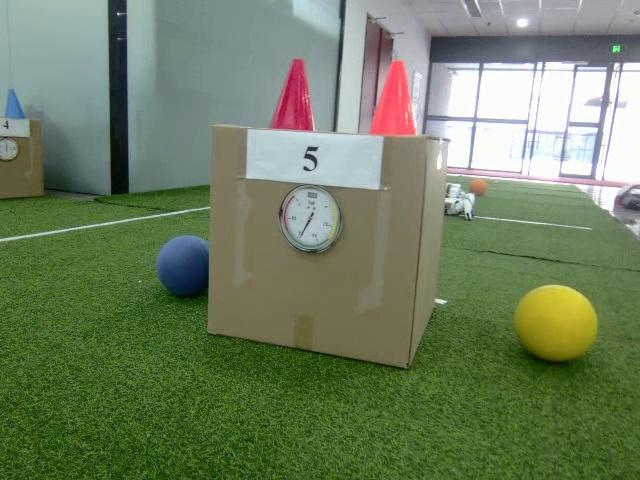4: (4, 120, 10, 132)
5: (302, 142, 318, 174)
Dashboard: (279, 185, 343, 255)
blue_ball: (155, 236, 211, 299)
blue_barrel: (4, 87, 25, 119)
orange_ball: (470, 176, 488, 197)
orange_barrel: (362, 57, 418, 139)
red_barrel: (269, 56, 316, 134)
ssi: (307, 190, 320, 200)
yellow_ball: (514, 284, 598, 363)
